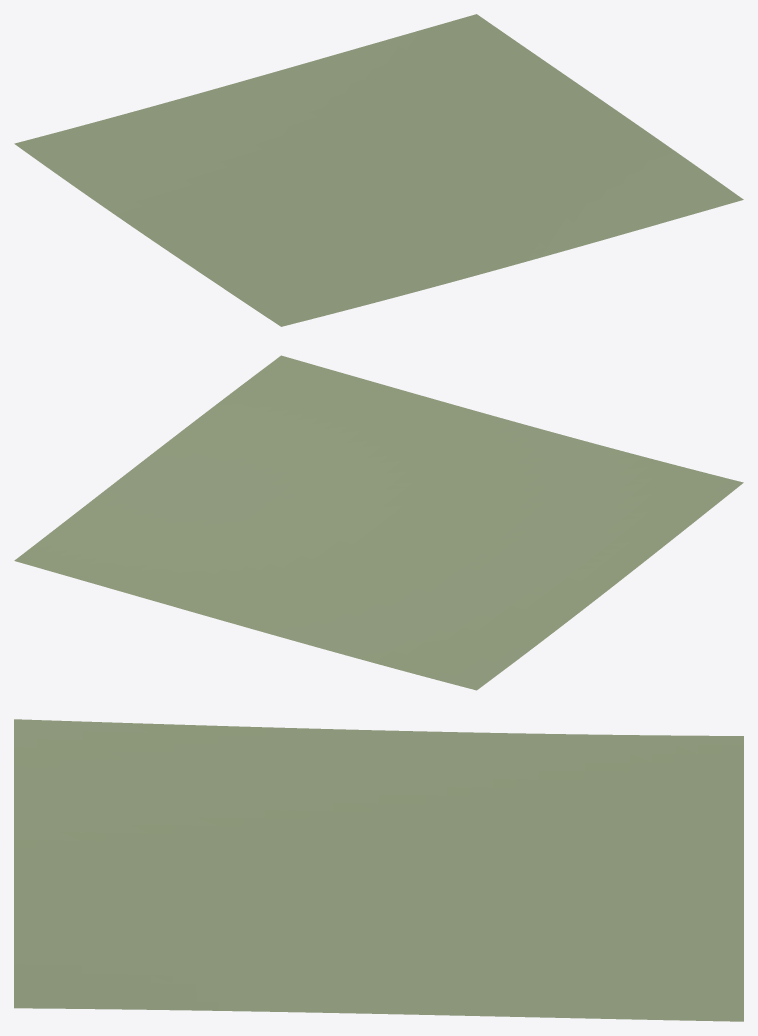
The model's file is expanse-18-13.glb.
3 views of the same model, one above another, from view 1: azimuth 30°, elevation 25°; view 2: azimuth 150°, elevation 25°; view 3: azimuth 270°, elevation 25° (orthographic). The views are drawn at different scales.
Parts seen in each view (by area): view 1: expanse-18-13; view 2: expanse-18-13; view 3: expanse-18-13.
Boxes of the visible parts, bbox=[...] form: expanse-18-13: bbox=[14, 14, 743, 326]; expanse-18-13: bbox=[14, 355, 743, 690]; expanse-18-13: bbox=[14, 719, 743, 1021].
Size of the model in its own units: 256 by 14.03 by 256.
